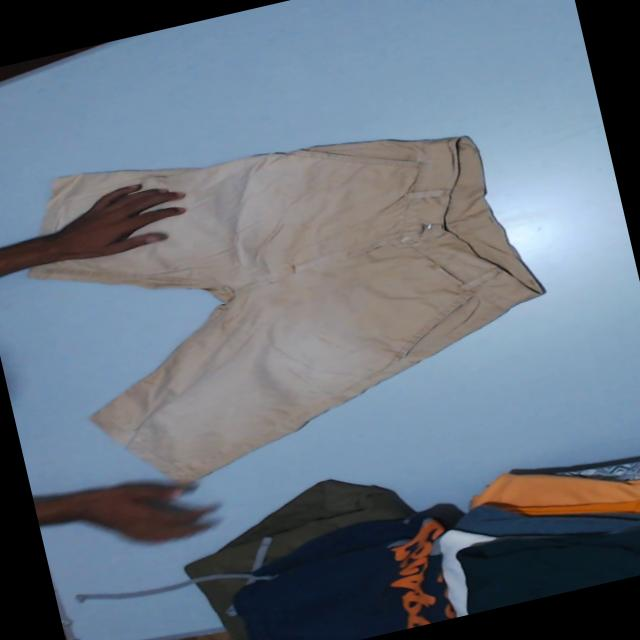new-garment: (28, 136, 541, 481)
